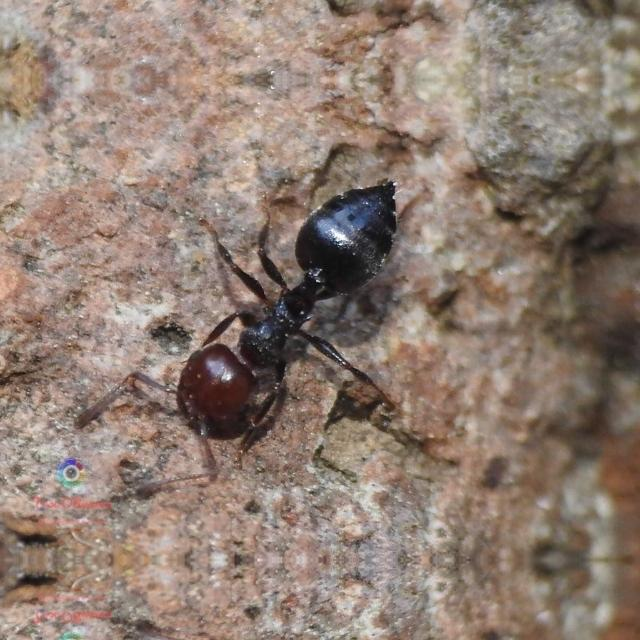Crematogaster: (163, 177, 393, 447)
